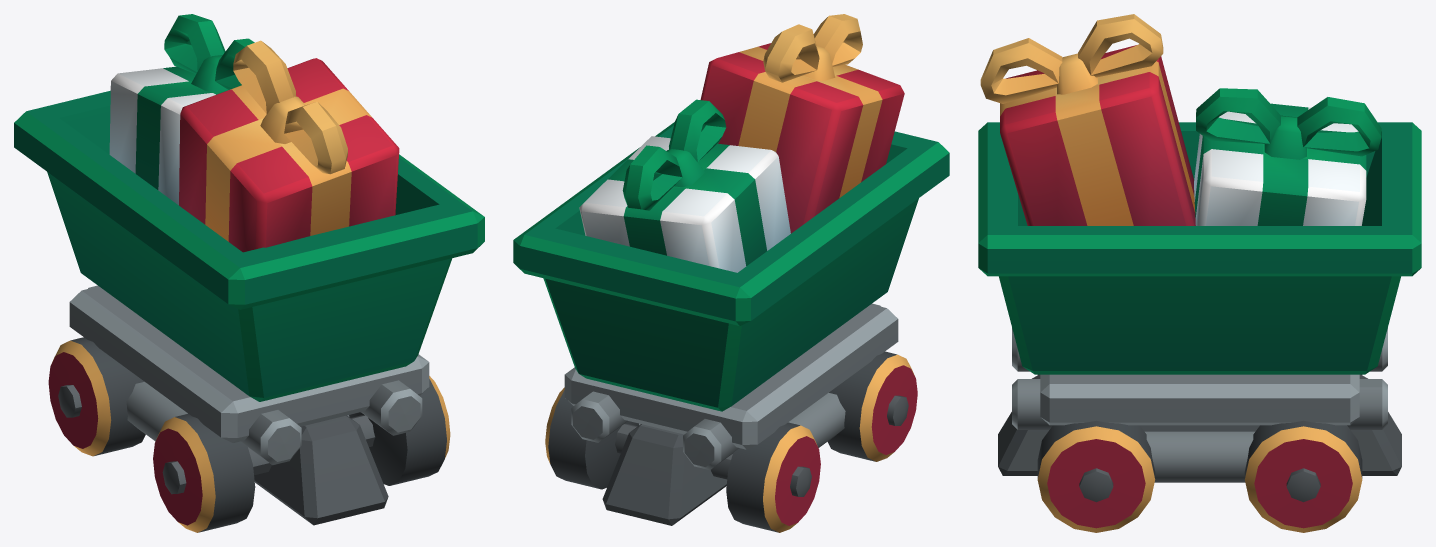
File: train_tender_presents_A.fbx
3 renders of one model, left to right at view 1: azimuth 30°, elevation 25°; view 2: azimuth 150°, elevation 25°; view 3: azimuth 270°, elevation 25°, orthographic. The views are drawn at different scales.
Visible parts, largest first — view 1: train_tender_presents_A; view 2: train_tender_presents_A; view 3: train_tender_presents_A.
Part boxes in pixels (x1,y1,x2,y2): train_tender_presents_A: (14,14,484,532); train_tender_presents_A: (513,14,949,532); train_tender_presents_A: (978,14,1421,532).
Size of the model in its own units: 44.59 by 71.5 by 64.21.
